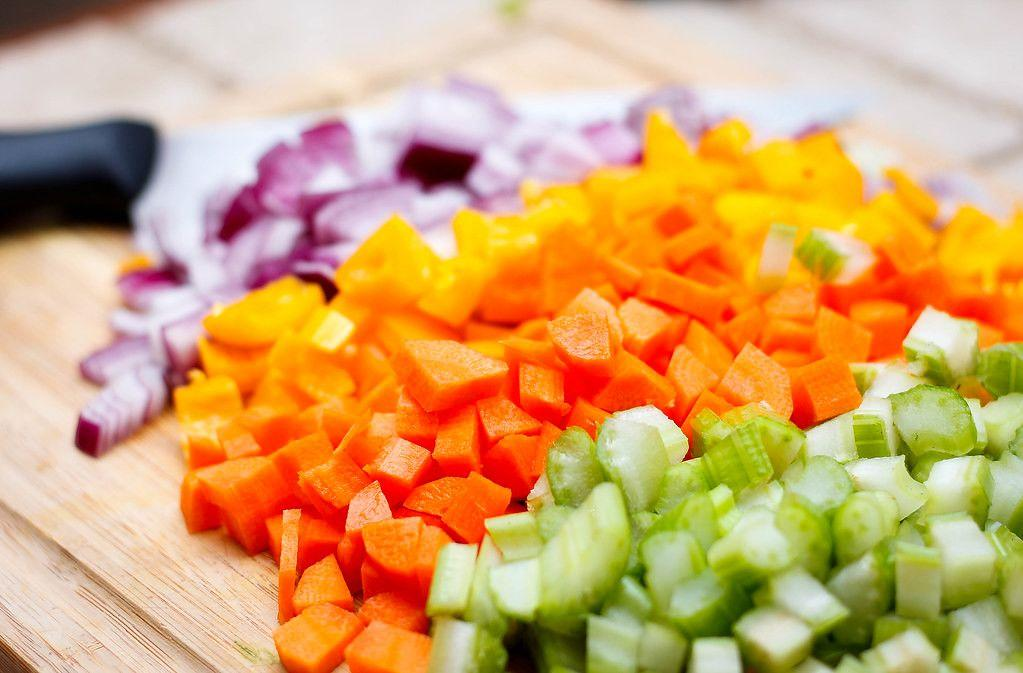carrot: (239, 199, 779, 417)
